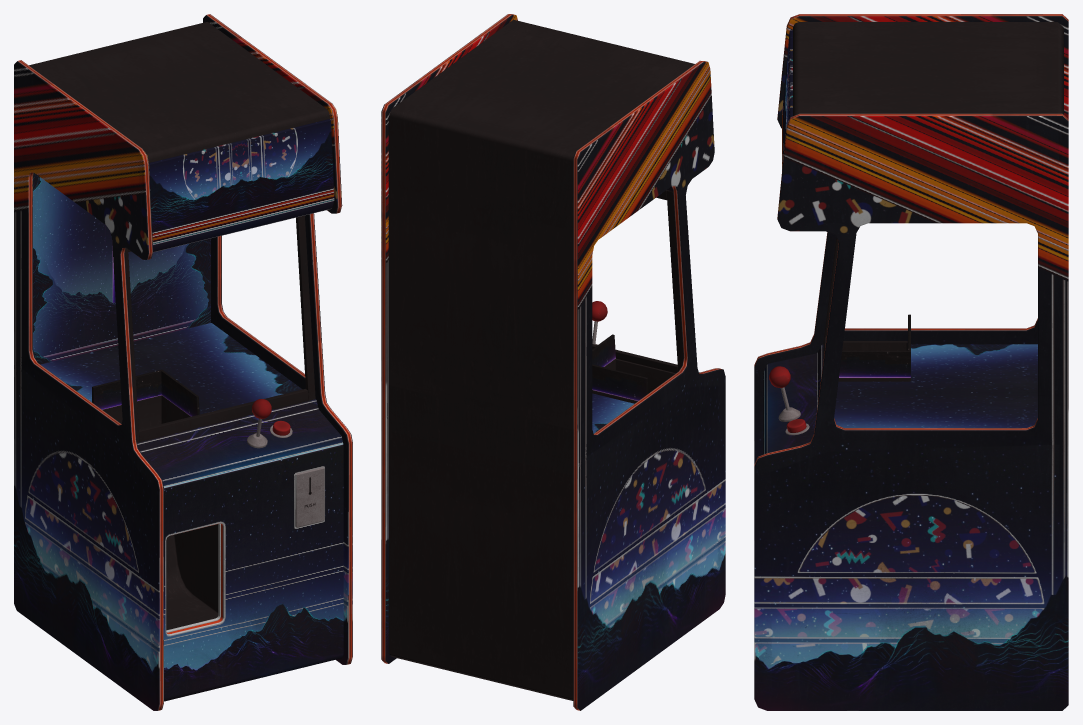
Rendered from avtomat.glb.
3 renders of one model, left to right at view 1: azimuth 30°, elevation 25°; view 2: azimuth 150°, elevation 25°; view 3: azimuth 270°, elevation 25°, orthographic. The views are drawn at different scales.
Visible parts, largest first — view 1: pCube93; view 2: pCube93; view 3: pCube93.
Boxes of the visible parts, x1,y1,x2,y2 form: pCube93: (14, 14, 352, 710); pCube93: (381, 14, 725, 710); pCube93: (754, 14, 1068, 710).
Bounding box in the file's own units: 0.6913 × 1.87 × 0.8954.
1 material, 1 textured.
